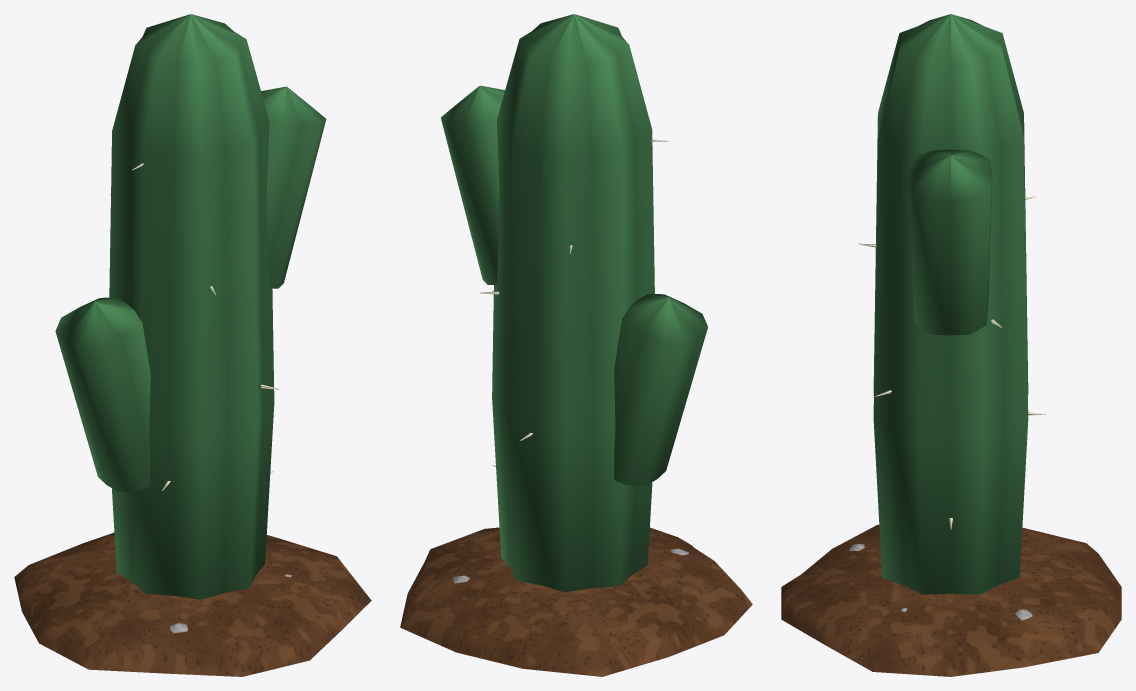
Rendered from plant-cactus-3.glb.
3 renders of one model, left to right at view 1: azimuth 30°, elevation 25°; view 2: azimuth 150°, elevation 25°; view 3: azimuth 270°, elevation 25°, orthographic.
Parts seen in each view (by area): view 1: plant-cactus-3; view 2: plant-cactus-3; view 3: plant-cactus-3.
Boxes of the visible parts, box(x1,y1,x2,y2) form: plant-cactus-3: box(14, 14, 371, 676); plant-cactus-3: box(400, 14, 752, 676); plant-cactus-3: box(781, 14, 1121, 676).
Bounding box in the file's own units: 0.84 × 1.57 × 0.8189.
Materials: 4 (2 with a texture image).
